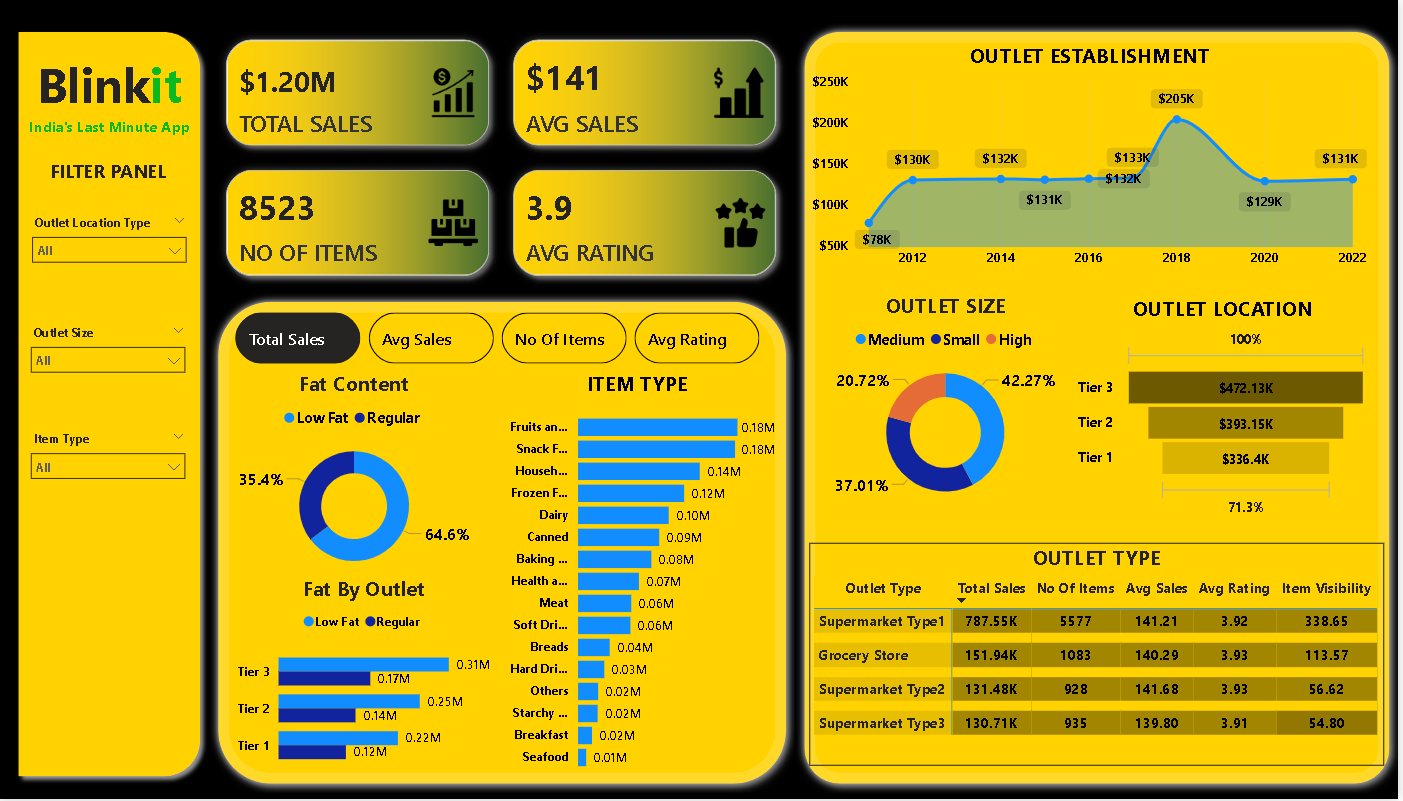

This screenshot's page, from the dashboard's own definition file:
{"tool":"powerbi","page":{"name":"Page 1","canvas":[1400,800],"ordinal":0},"visuals":[{"type":"shape","box":[11.4,24.3,200,762.9],"z":0},{"type":"textbox","title":"Blinkit","box":[0,47.1,222.9,100],"z":1000},{"type":"cardVisual","fields":{"Data":["Sum(BlinkIT Grocery Data.Sales)","Avg(BlinkIT Grocery Data.Sales)","BlinkIT Grocery Data.No Of Items","Avg(BlinkIT Grocery Data.Rating)"]},"box":[211.4,24.3,585.7,270],"z":2000},{"type":"shape","box":[211.4,294.3,585.7,500],"z":3000},{"type":"donutChart","title":"Fat Content","fields":{"Y":["BlinkIT Grocery Data.Total Sales"],"Category":["BlinkIT Grocery Data.Item Fat Content"]},"box":[233.3,370,245,215],"z":4000},{"type":"advancedSlicerVisual","fields":{"Values":["Metrics.Metrics"]},"box":[232.9,308.6,535.7,61.4],"z":5000},{"type":"clusteredBarChart","title":"Fat By Outlet","fields":{"Y":["BlinkIT Grocery Data.Total Sales"],"Category":["BlinkIT Grocery Data.Outlet Location Type"],"Series":["BlinkIT Grocery Data.Item Fat Content"]},"box":[233.3,575,265,206.7],"z":6000},{"type":"barChart","title":"ITEM TYPE","fields":{"Y":["BlinkIT Grocery Data.Total Sales"],"Category":["BlinkIT Grocery Data.Item Type"]},"box":[495.7,370,285.7,411.4],"z":7000},{"type":"shape","box":[797.1,24.3,602.9,770],"z":8000},{"type":"lineChart","title":"OUTLET ESTABLISHMENT","fields":{"Y":["Sum(BlinkIT Grocery Data.Sales)"],"Category":["BlinkIT Grocery Data.Outlet Establishment Year"]},"box":[810,41,564,236],"z":9000},{"type":"donutChart","title":"OUTLET SIZE","fields":{"Y":["BlinkIT Grocery Data.Total Sales"],"Category":["BlinkIT Grocery Data.Outlet Size"]},"box":[810,291.4,275,225],"z":10000},{"type":"funnel","title":"OUTLET LOCATION","fields":{"Y":["Sum(BlinkIT Grocery Data.Sales)"],"Category":["BlinkIT Grocery Data.Outlet Location Type"]},"box":[1074.4,294.4,300,230],"z":11000},{"type":"pivotTable","title":"OUTLET TYPE","fields":{"Values":["BlinkIT Grocery Data.Total Sales","BlinkIT Grocery Data.No Of Items","BlinkIT Grocery Data.Avg Sales","BlinkIT Grocery Data.Avg Rating","Sum(BlinkIT Grocery Data.Item Visibility)"],"Rows":["BlinkIT Grocery Data.Outlet Type"]},"box":[811.4,544.3,574.3,222.9],"z":12000},{"type":"slicer","fields":{"Values":["BlinkIT Grocery Data.Outlet Location Type"]},"box":[24,210,175,80],"z":13000},{"type":"slicer","fields":{"Values":["BlinkIT Grocery Data.Item Type"]},"box":[23,426,175,80],"z":14000},{"type":"slicer","fields":{"Values":["BlinkIT Grocery Data.Outlet Size"]},"box":[23,320,175,80],"z":15000},{"type":"textbox","title":"FILTER PANEL","box":[44,159,133,28],"z":15001}]}

Visuals, with their boxes in screenshot pixels (x1, y1, x2, y2), scaled from the page's 1400x800 canvas onto the 1403x801 screenshot:
shape: x1=11, y1=24, x2=212, y2=788
"Blinkit" textbox: x1=0, y1=47, x2=223, y2=147
cardVisual - Sum(BlinkIT Grocery Data.Sales) x Avg(BlinkIT Grocery Data.Sales): x1=212, y1=24, x2=799, y2=295
shape: x1=212, y1=295, x2=799, y2=795
"Fat Content" donutChart: x1=234, y1=370, x2=479, y2=586
advancedSlicerVisual - Metrics.Metrics: x1=233, y1=309, x2=770, y2=370
"Fat By Outlet" clusteredBarChart: x1=234, y1=576, x2=499, y2=783
"ITEM TYPE" barChart: x1=497, y1=370, x2=783, y2=782
shape: x1=799, y1=24, x2=1402, y2=795
"OUTLET ESTABLISHMENT" lineChart: x1=812, y1=41, x2=1377, y2=277
"OUTLET SIZE" donutChart: x1=812, y1=292, x2=1087, y2=517
"OUTLET LOCATION" funnel: x1=1077, y1=295, x2=1377, y2=525
"OUTLET TYPE" pivotTable: x1=813, y1=545, x2=1389, y2=768
slicer - BlinkIT Grocery Data.Outlet Location Type: x1=24, y1=210, x2=199, y2=290
slicer - BlinkIT Grocery Data.Item Type: x1=23, y1=427, x2=198, y2=507
slicer - BlinkIT Grocery Data.Outlet Size: x1=23, y1=320, x2=198, y2=400
"FILTER PANEL" textbox: x1=44, y1=159, x2=177, y2=187
